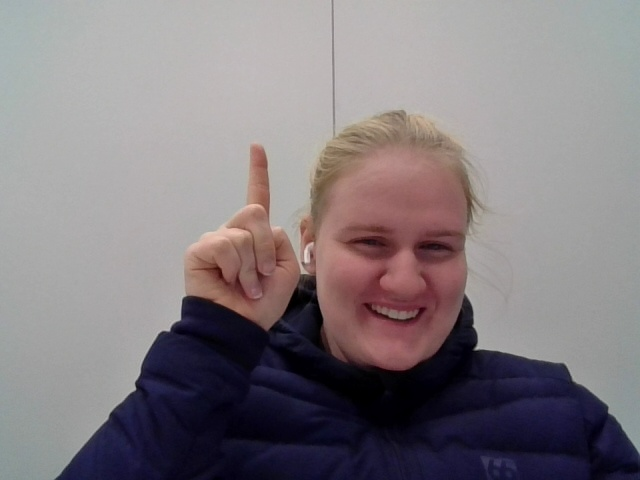up: (182, 135, 312, 338)
